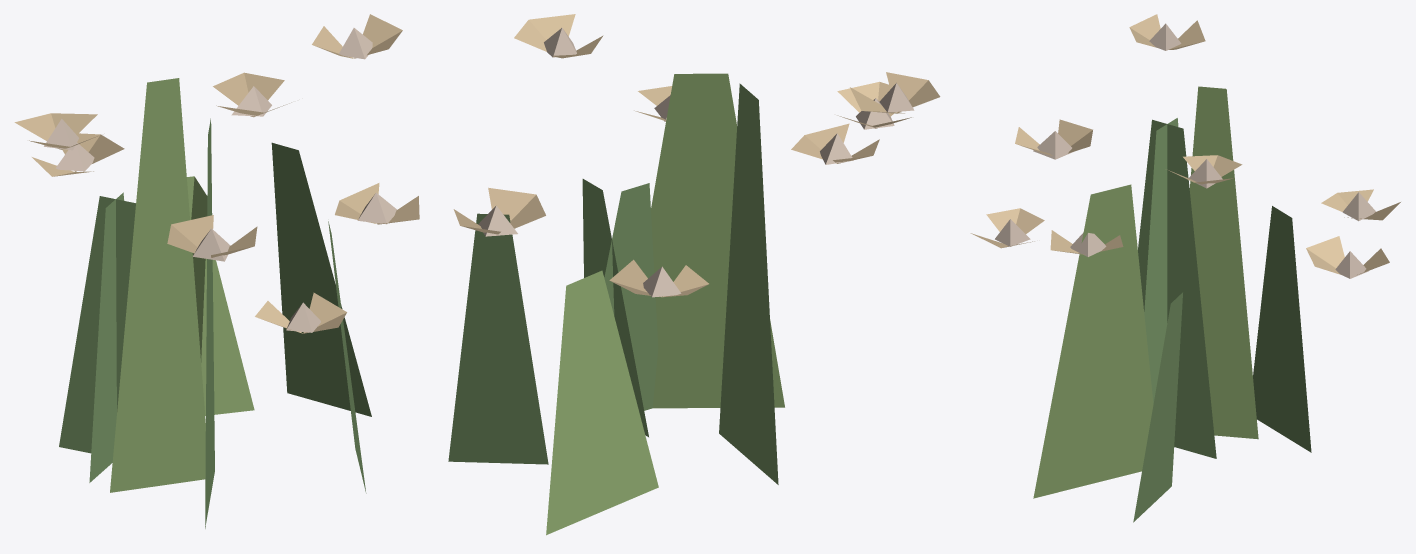
Rendered from cao.yangmao@flowering__spring.glb.
3 renders of one model, left to right at view 1: azimuth 30°, elevation 25°; view 2: azimuth 150°, elevation 25°; view 3: azimuth 270°, elevation 25°, orthographic. The views are drawn at different scales.
Parts seen in each view (by area): view 1: cao.yangmao@flowering__spring; view 2: cao.yangmao@flowering__spring; view 3: cao.yangmao@flowering__spring.
Part boxes in pixels (<box>): cao.yangmao@flowering__spring: <box>14,14,419,528</box>; cao.yangmao@flowering__spring: <box>448,14,940,535</box>; cao.yangmao@flowering__spring: <box>970,14,1400,522</box>.
Bounding box in the file's own units: 0.6035 × 0.5808 × 0.6335.
